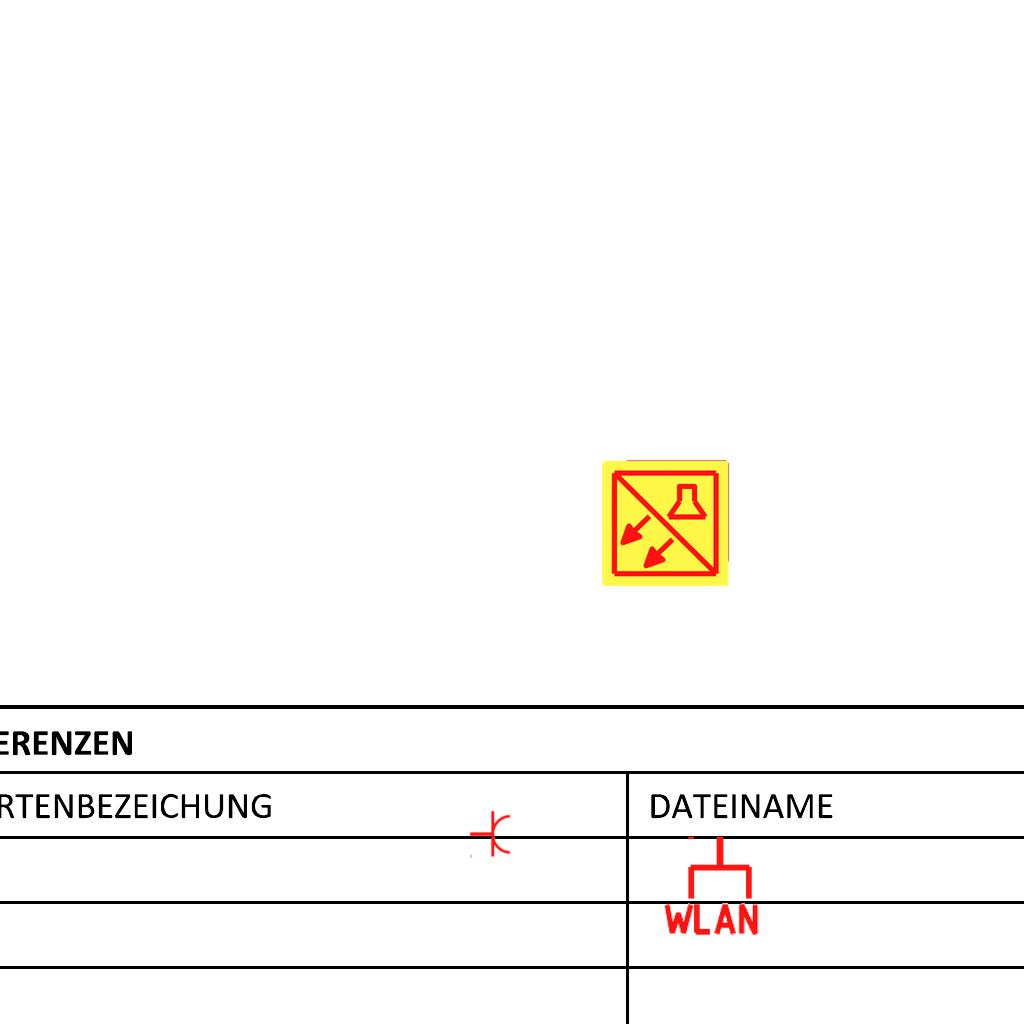OKW_Multisensormelder_(Kombination_optischer_Rauch-Kahlenmonoxid_Waerme-Melder): (599, 457, 731, 589)
Schukosteckdose_einfach: (469, 810, 512, 860)
WLAN: (659, 832, 763, 937)
